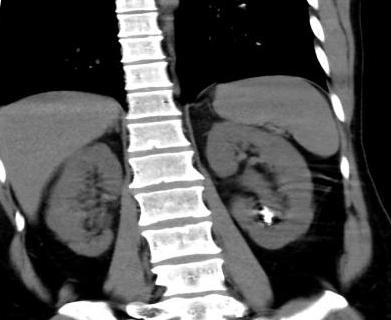Tas_Var: (258, 209, 278, 224), (267, 222, 274, 226), (263, 206, 268, 210)
